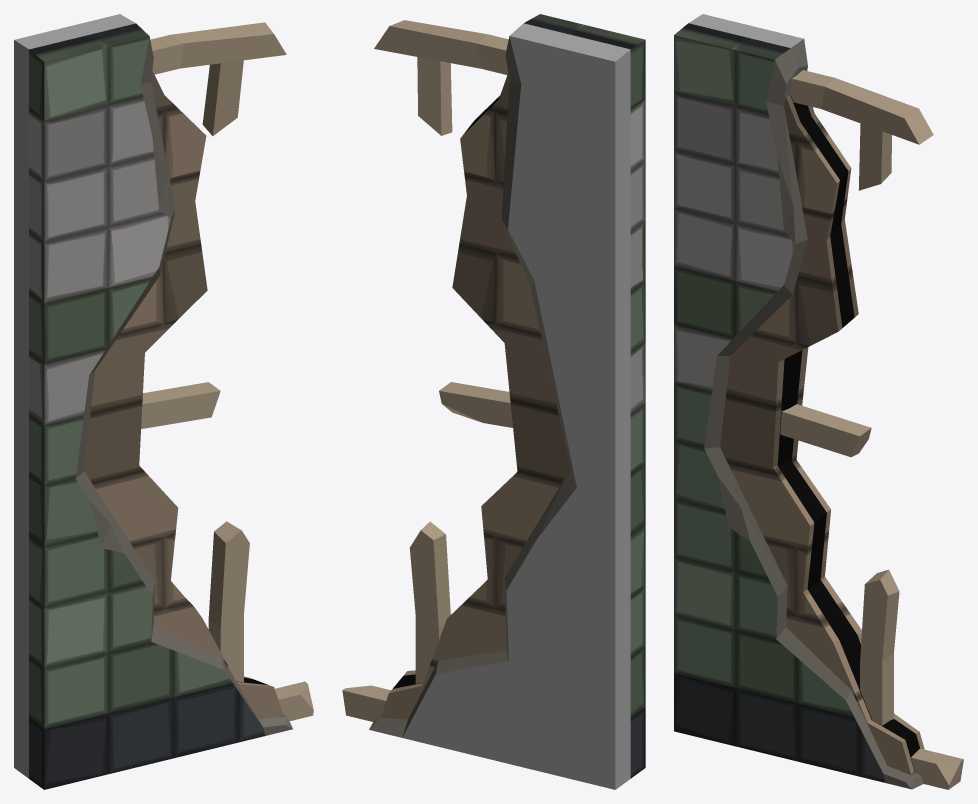
Rendered from SM_Bld_Wall_Hole_03.fbx.
3 views of the same model, side by side, from view 1: azimuth 30°, elevation 25°; view 2: azimuth 150°, elevation 25°; view 3: azimuth 330°, elevation 25° (orthographic). The views are drawn at different scales.
Visible parts, largest first — view 1: SM_Bld_Wall_Hole_03; view 2: SM_Bld_Wall_Hole_03; view 3: SM_Bld_Wall_Hole_03.
Boxes of the visible parts, bbox=[...] form: SM_Bld_Wall_Hole_03: bbox=[14, 14, 313, 789]; SM_Bld_Wall_Hole_03: bbox=[342, 14, 645, 789]; SM_Bld_Wall_Hole_03: bbox=[674, 14, 963, 789].
Bounding box in the file's own units: 122 × 301 × 22.5.
